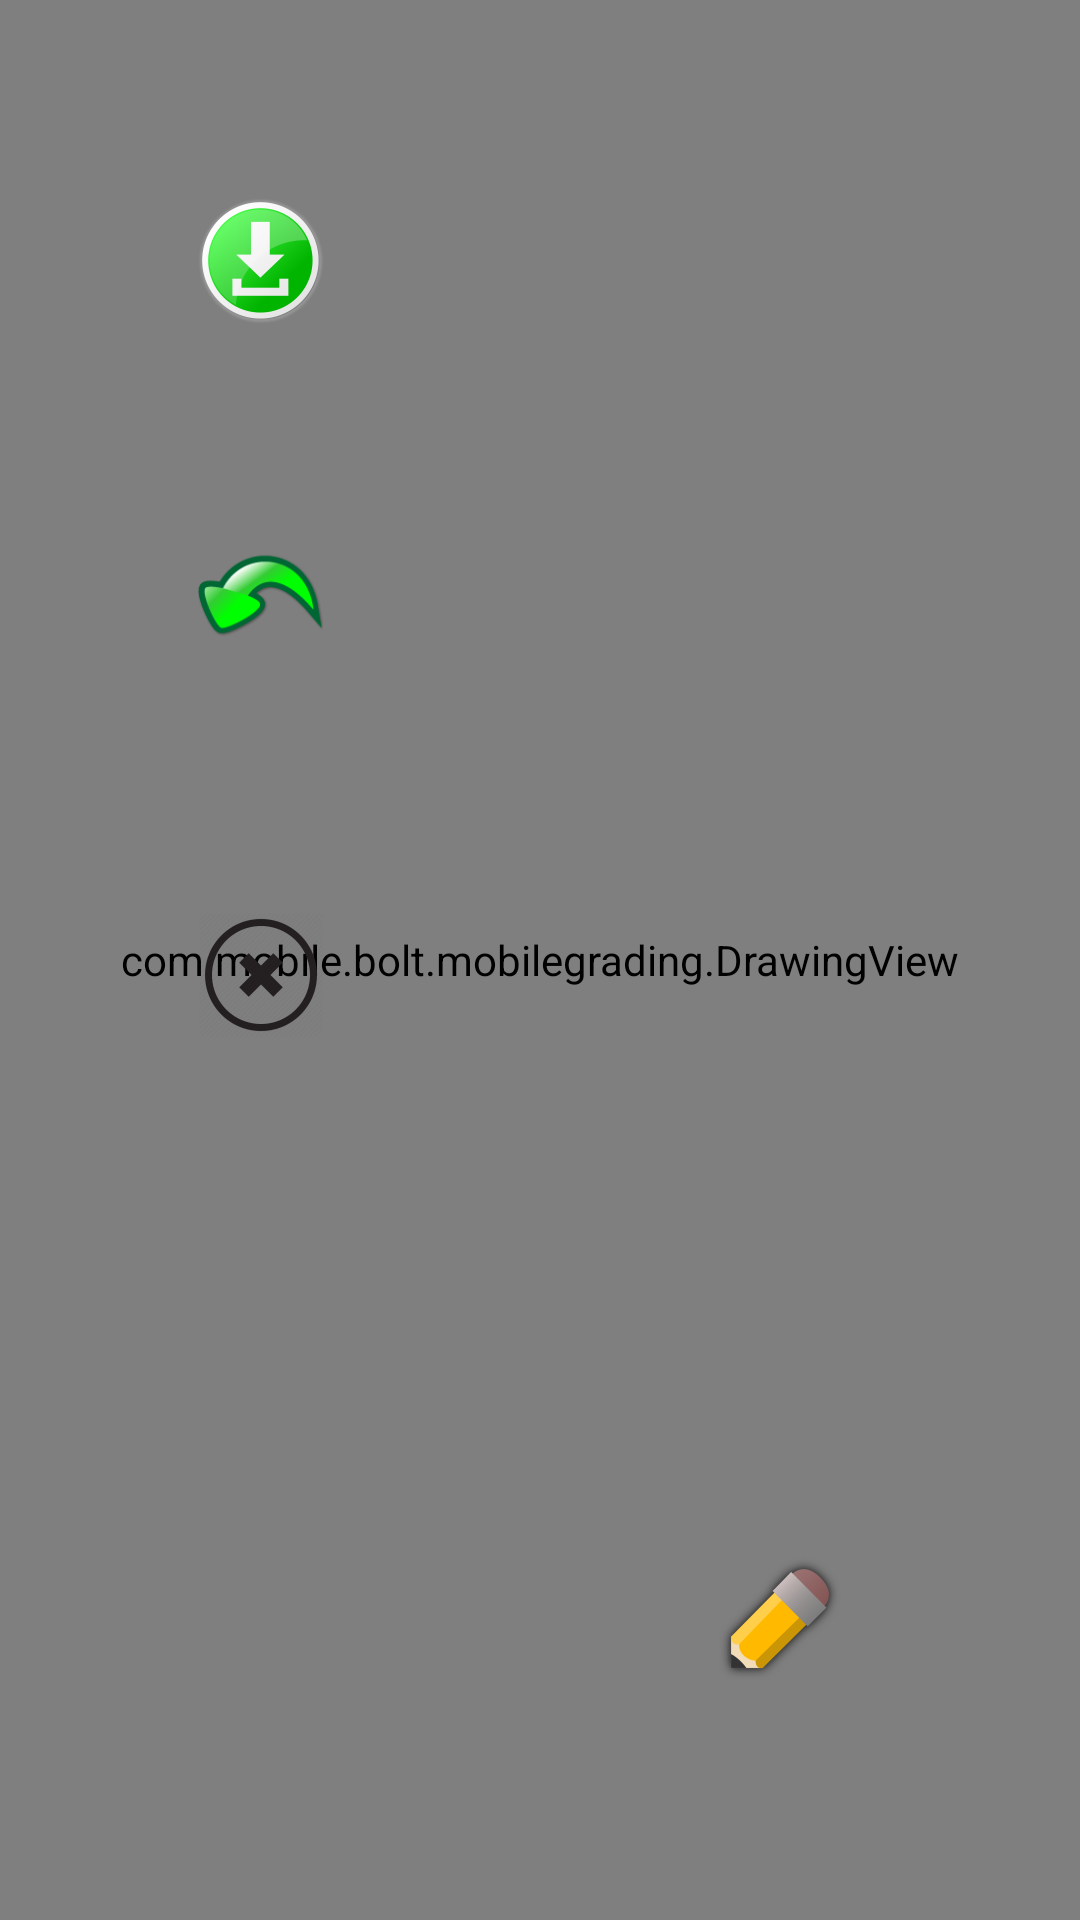

Icon bounding boxes for this 1080*1920 phone screenshot, format [x1,y1,x2,y2]:
cancel: [205,919,317,1031]
edit: [727,1566,832,1672]
save buttons: [202,202,319,319]
undo: [198,555,322,634]
